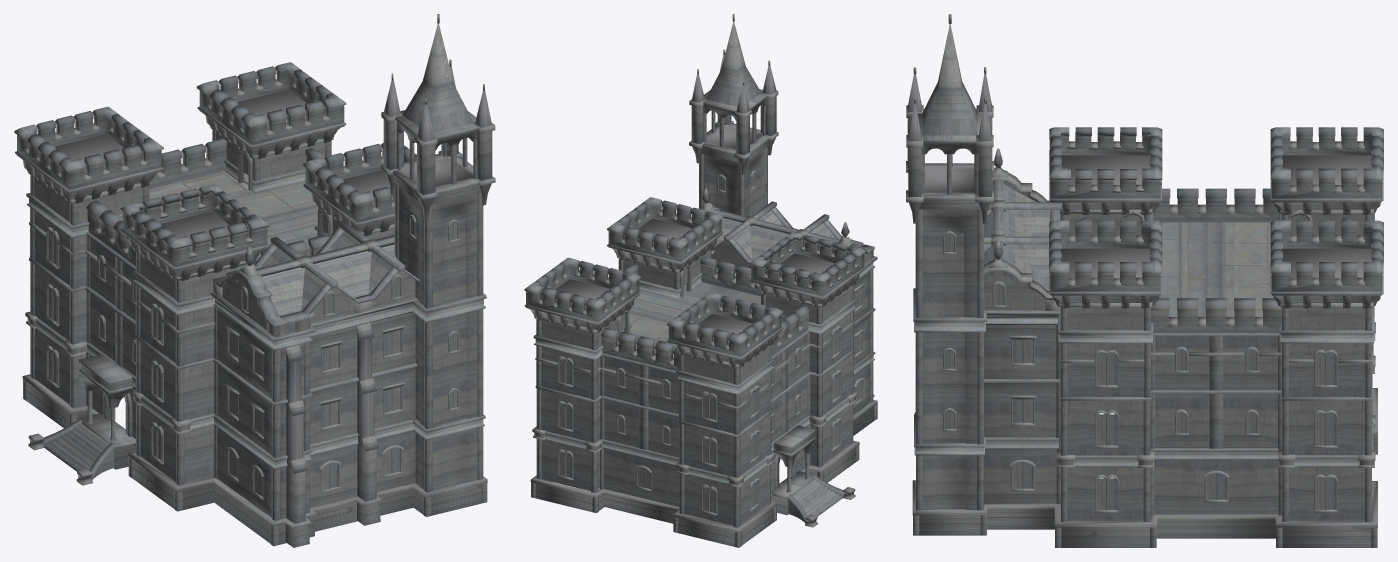
The model's file is FavHQ1.obj.
3 views of the same model, side by side, from view 1: azimuth 30°, elevation 25°; view 2: azimuth 150°, elevation 25°; view 3: azimuth 270°, elevation 25° (orthographic). The views are drawn at different scales.
Parts seen in each view (by area): view 1: Area_MdBuild_KnightHQ02_ShadowMesh_0; view 2: Area_MdBuild_KnightHQ02_ShadowMesh_0; view 3: Area_MdBuild_KnightHQ02_ShadowMesh_0.
Boxes of the visible parts, x1,y1,x2,y2 form: Area_MdBuild_KnightHQ02_ShadowMesh_0: (14, 14, 495, 547); Area_MdBuild_KnightHQ02_ShadowMesh_0: (524, 14, 877, 547); Area_MdBuild_KnightHQ02_ShadowMesh_0: (906, 14, 1383, 547).
Bounding box in the file's own units: 38.12 × 55.45 × 47.52.
Materials: 1 (1 with a texture image).
